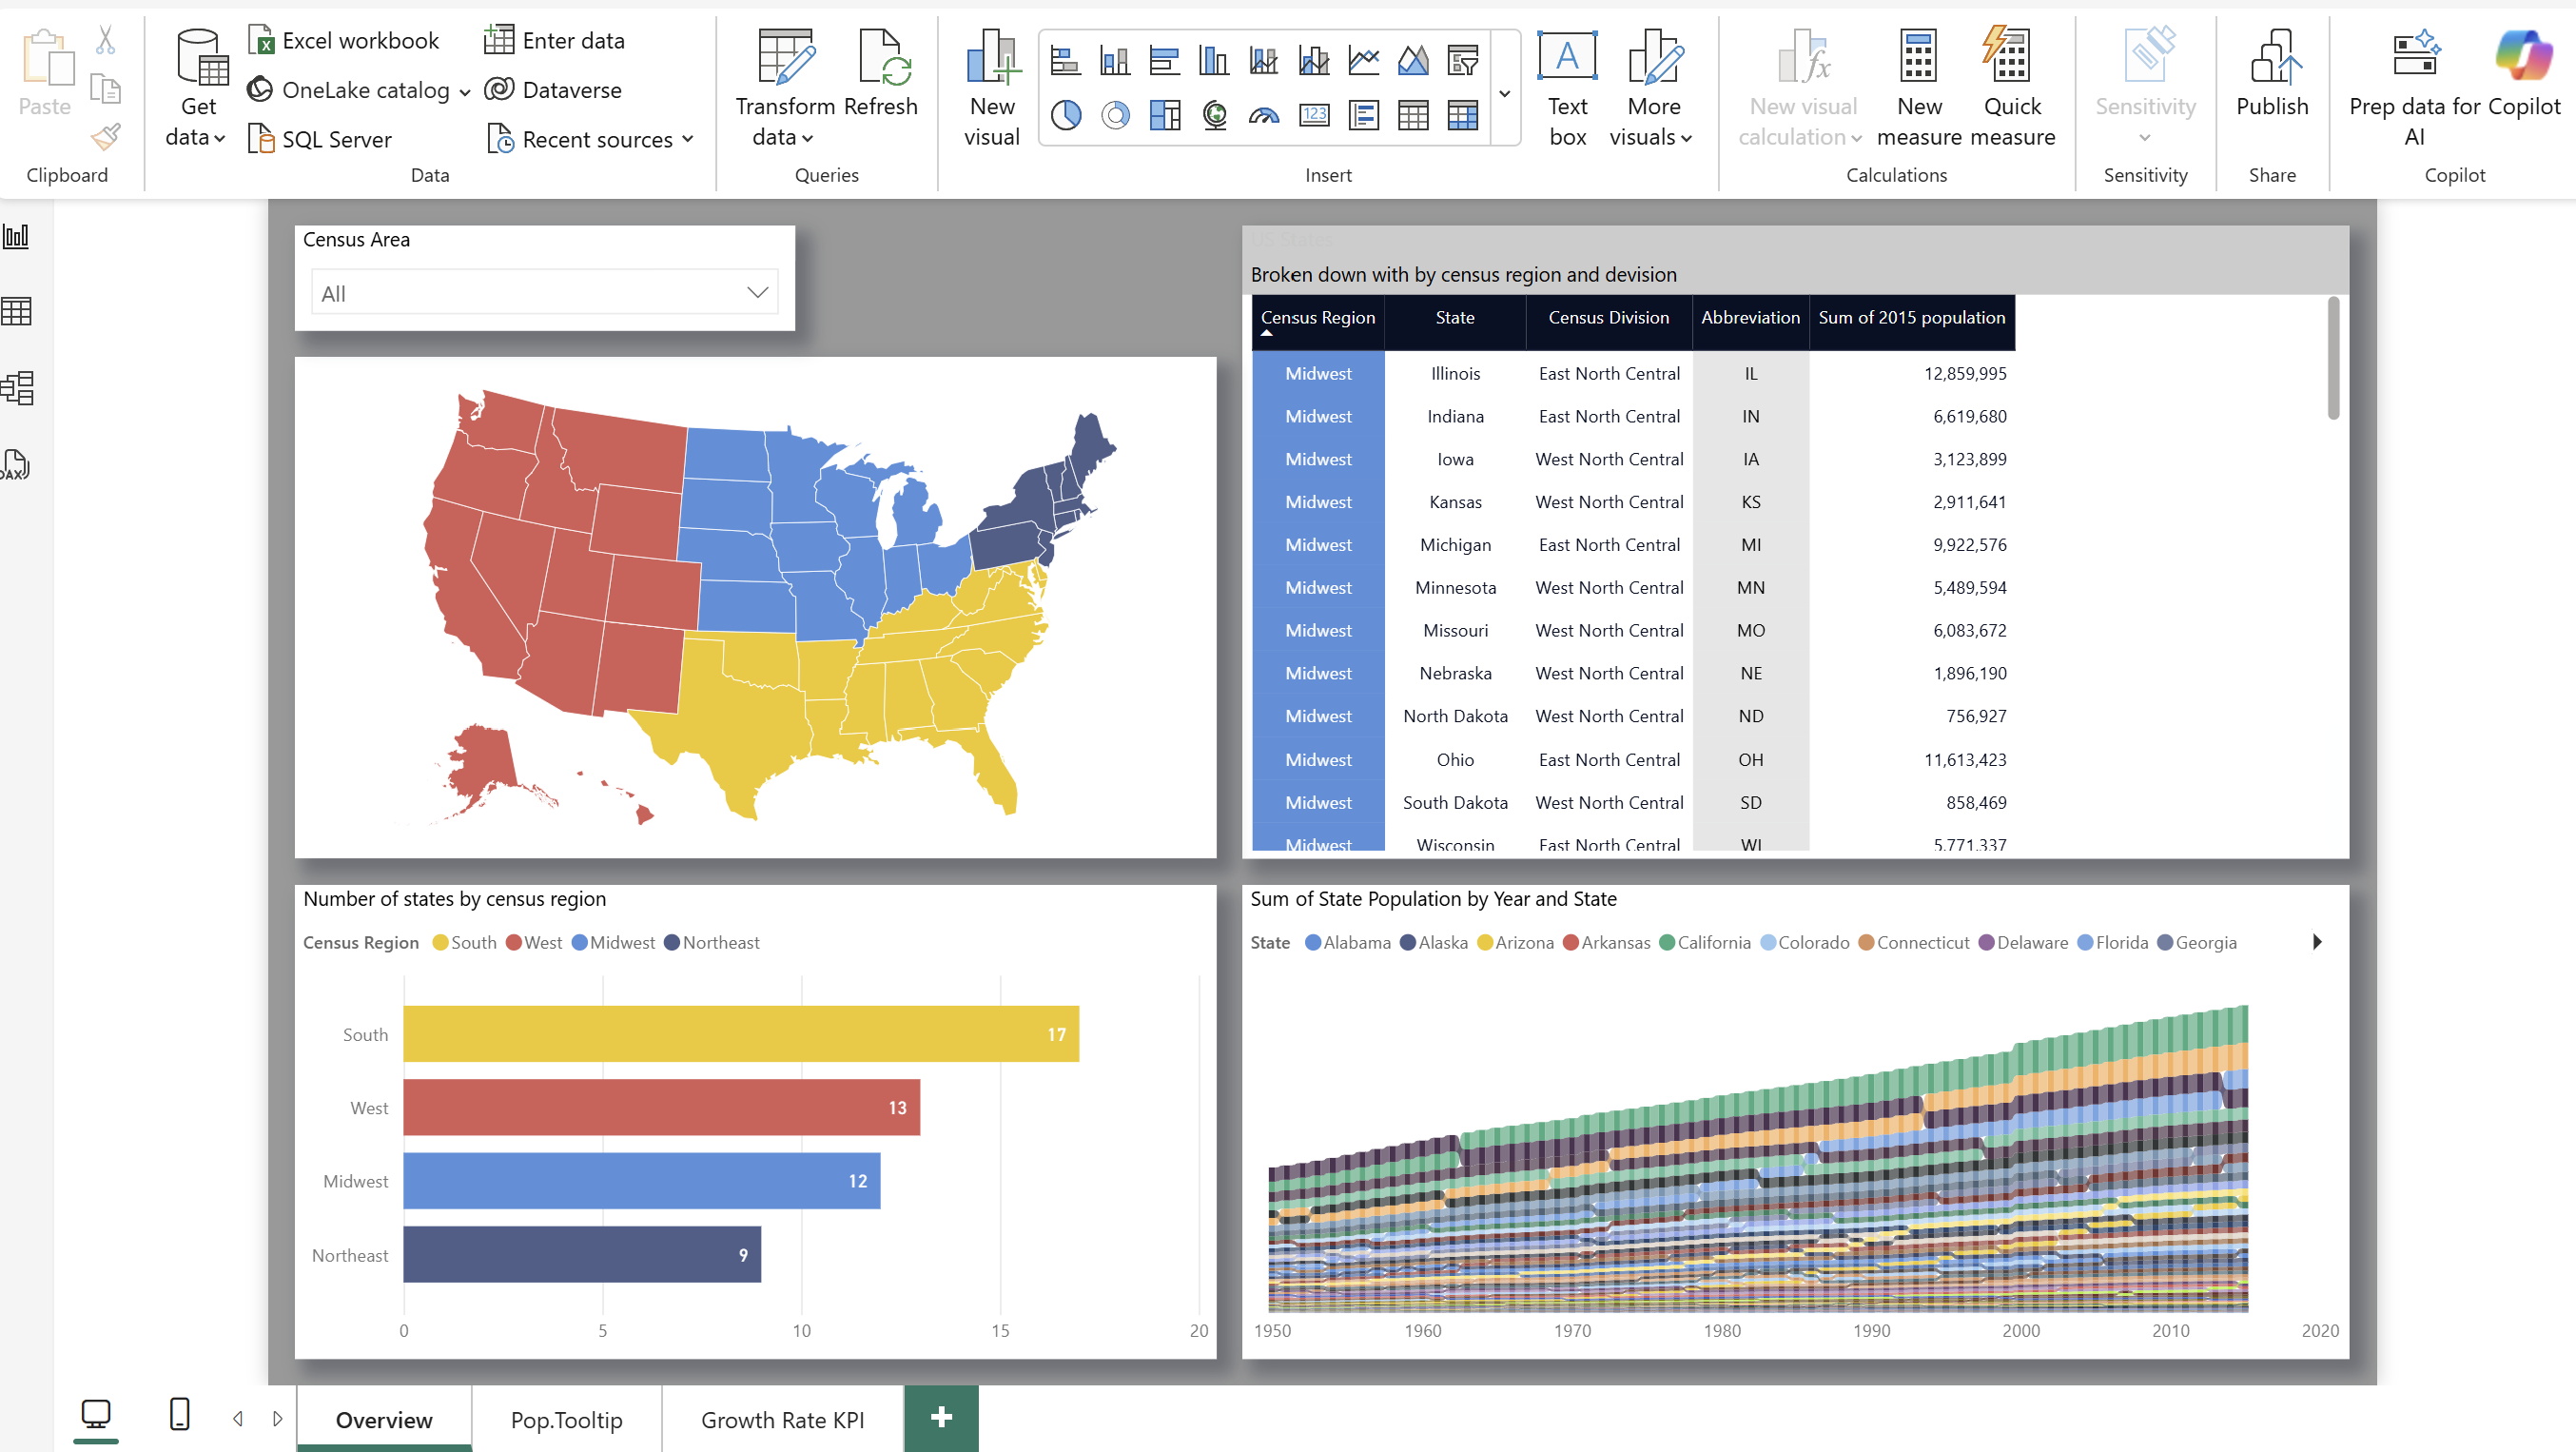

The dashboard page shown, as its layout file describes it:
{"tool":"powerbi","page":{"name":"Overview","canvas":[1280,720],"ordinal":0},"visuals":[{"type":"tableEx","title":"US States","fields":{"Values":["States.Census Region","States.State","States.Census Division","States.Abbreviation","States.2015 population"]},"box":[592,16,672,384],"z":0},{"type":"shapeMap","fields":{"Category":["States.State"],"Series":["States.Census Region"],"Value":["_Measures.States"]},"box":[16,96,560,304],"z":1000},{"type":"barChart","title":"Number of states by census region","fields":{"Category":["States.Census Region"],"Y":["_Measures.States"],"Series":["States.Census Region"]},"box":[16,416,560,288],"z":2000},{"type":"slicer","title":"Census Area","fields":{"Values":["States.Census Area.Census Region","States.Census Area.Census Region","States.Census Area.Census Division","States.Census Area.Census Region","States.Census Area.Census Division"]},"box":[16,16,304,64],"z":3000},{"type":"ribbonChart","fields":{"Category":["us-states-population-by-year.Year"],"Series":["States.State"],"Y":["Sum(us-states-population-by-year.State Population)"]},"box":[592,416,672,288],"z":4000}]}

Visuals, with their boxes on the page's 1280x720 design canvas (x1, y1, x2, y2). These are canvas units, not pixel positions in the 2576x1452 screenshot, which may show the page scaled, cropped or inside an application window:
"US States" tableEx: 592:16:1264:400
shapeMap - States.State x States.Census Region: 16:96:576:400
"Number of states by census region" barChart: 16:416:576:704
"Census Area" slicer: 16:16:320:80
ribbonChart - us-states-population-by-year.Year x States.State: 592:416:1264:704
